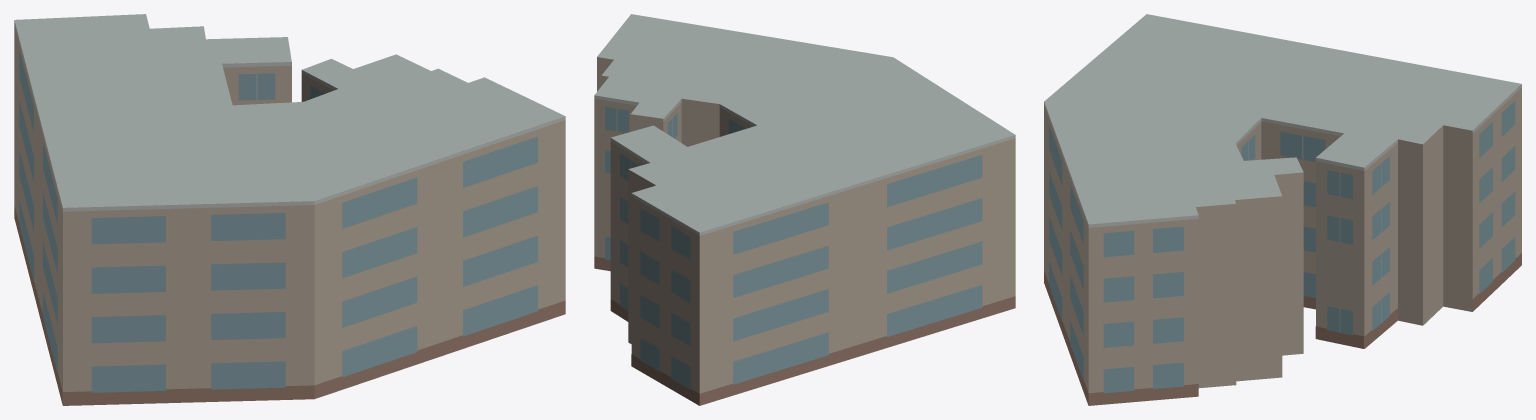
The model's file is survey-upis-33019840.glb.
The picture shows the model from 3 angles, left to right: view 1: azimuth 30°, elevation 25°; view 2: azimuth 150°, elevation 25°; view 3: azimuth 270°, elevation 25°; orthographic projection. The views are drawn at different scales.
Visible parts, largest first — view 1: survey-upis-33019840.tmp; view 2: survey-upis-33019840.tmp; view 3: survey-upis-33019840.tmp.
Part boxes in pixels (box(x1,y1,x2,y2)): survey-upis-33019840.tmp: box(14, 14, 565, 405); survey-upis-33019840.tmp: box(594, 14, 1015, 405); survey-upis-33019840.tmp: box(1044, 14, 1521, 405).
Size of the model in its own units: 31.37 by 12.6 by 30.09.
